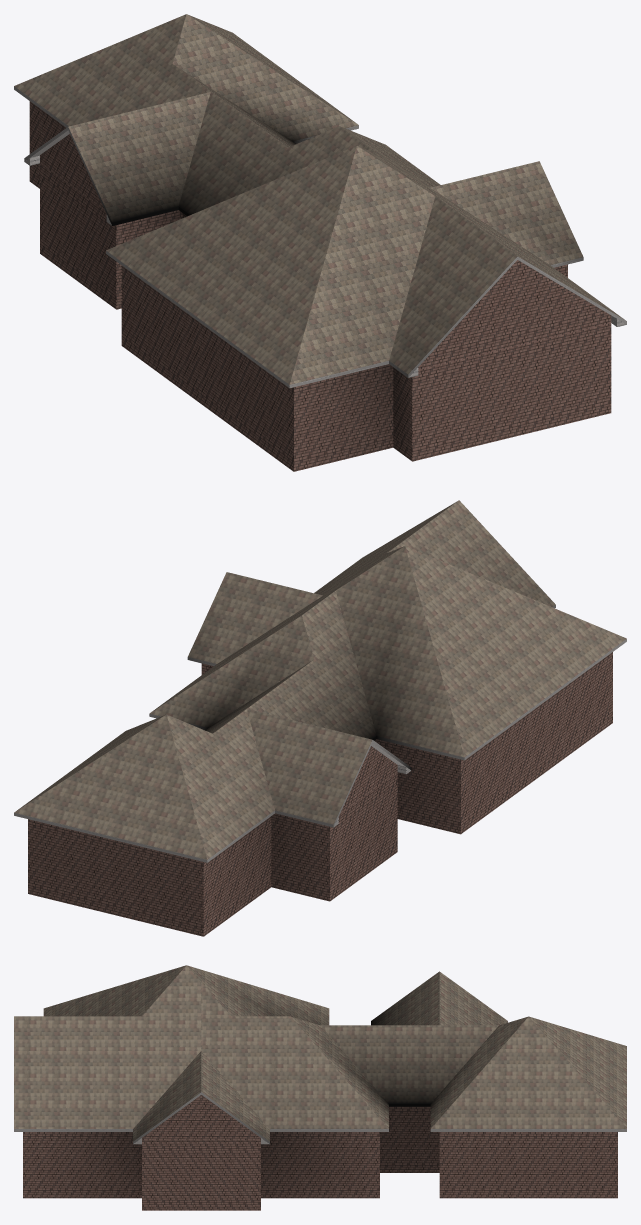
Rendered from house_014.glb.
3 views of the same model, one above another, from view 1: azimuth 30°, elevation 25°; view 2: azimuth 150°, elevation 25°; view 3: azimuth 270°, elevation 25° (orthographic). The views are drawn at different scales.
Visible parts, largest first — view 1: Export; view 2: Export; view 3: Export.
Part boxes in pixels (bbox=[...]): Export: bbox=[14, 14, 626, 471]; Export: bbox=[14, 500, 626, 936]; Export: bbox=[14, 965, 626, 1210].
Size of the model in its own units: 10.6 by 6.54 by 20.6.
3 materials, 3 textured.
